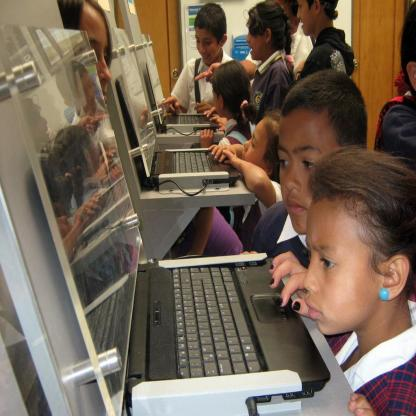board: (40, 112, 330, 416), (113, 30, 240, 187), (140, 35, 218, 134)
